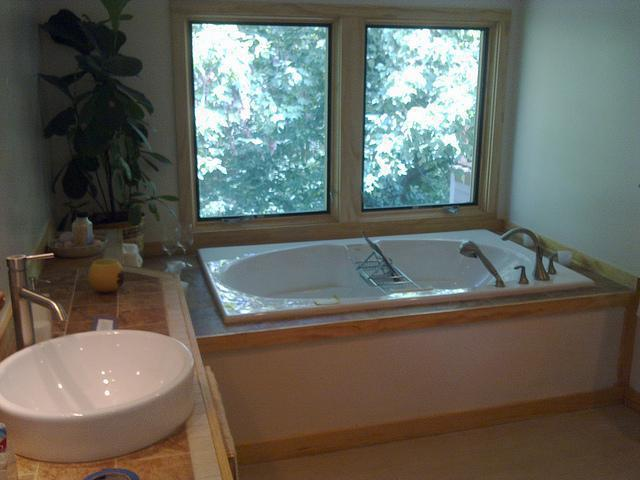Lavamanos: (12, 245, 202, 459)
